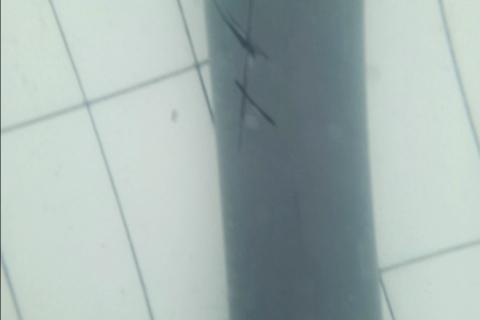keretakan: (214, 0, 277, 155)
